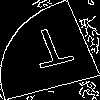T: (25, 25, 80, 78)
